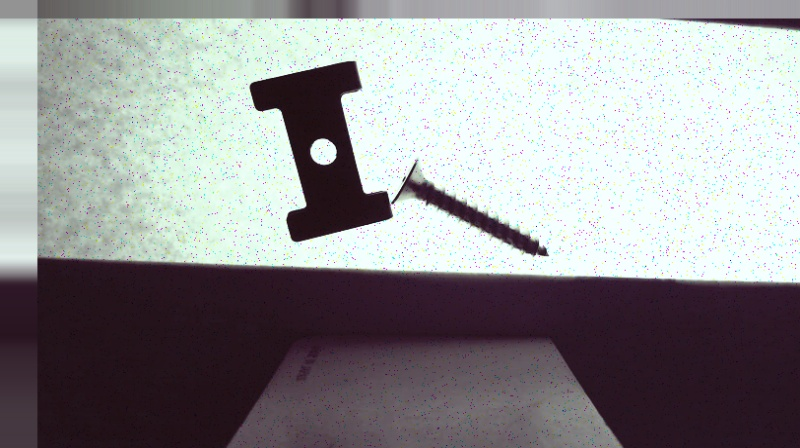O002: (246, 58, 395, 240)
S001: (391, 155, 553, 258)
